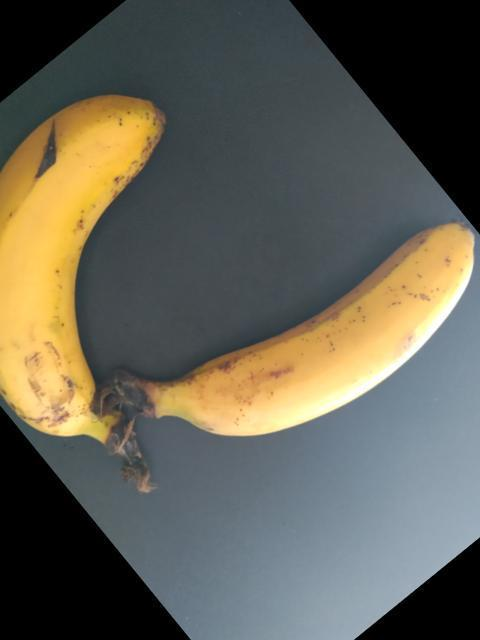ripe: (135, 222, 474, 486), (0, 90, 165, 433)
